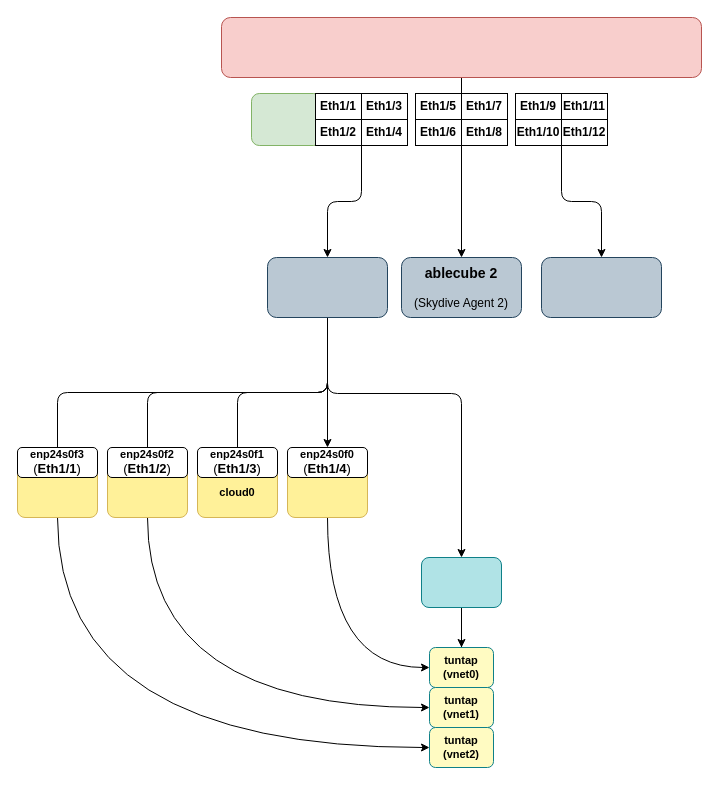
This 719x785 diagram has some shape labels left out. Here are the shapes that lost their labels. From the top down, the centre of each, then its label:
[461,47]: Switch
[286,119]: Port
[327,287]: ablecube 1 ( Skydive Agent 1 )
[601,287]: ablecube 3 (Skydive Agent 3)
[57,492]: br-CN
[147,492]: br-PN
[327,492]: bridge0
[461,582]: Libvirt VM ( scvm )
